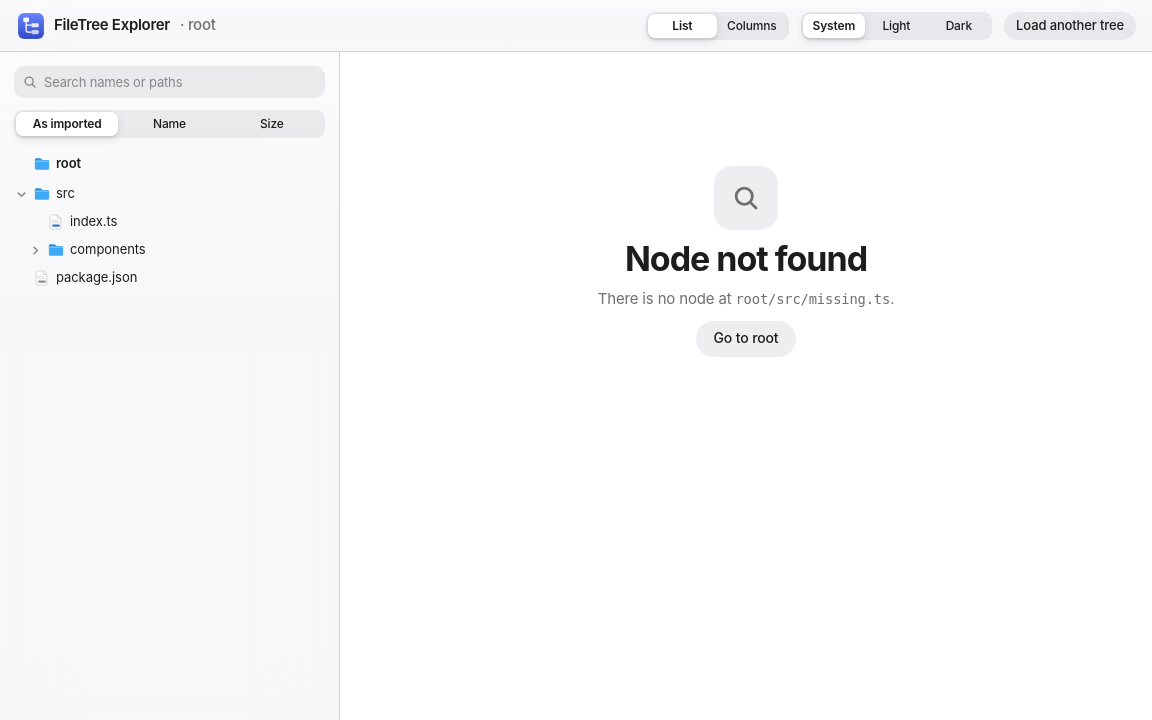
Scenario: node details › reports a path that does not exist in the tree
Check: the heading "Node not found" is shown, box [625, 240, 867, 278]
Check: the text "root/src/missing.ts" is shown, box [736, 292, 890, 308]
Click the link "Go to root" at coordinates (746, 338), box [696, 320, 796, 356]
(page scrolled)
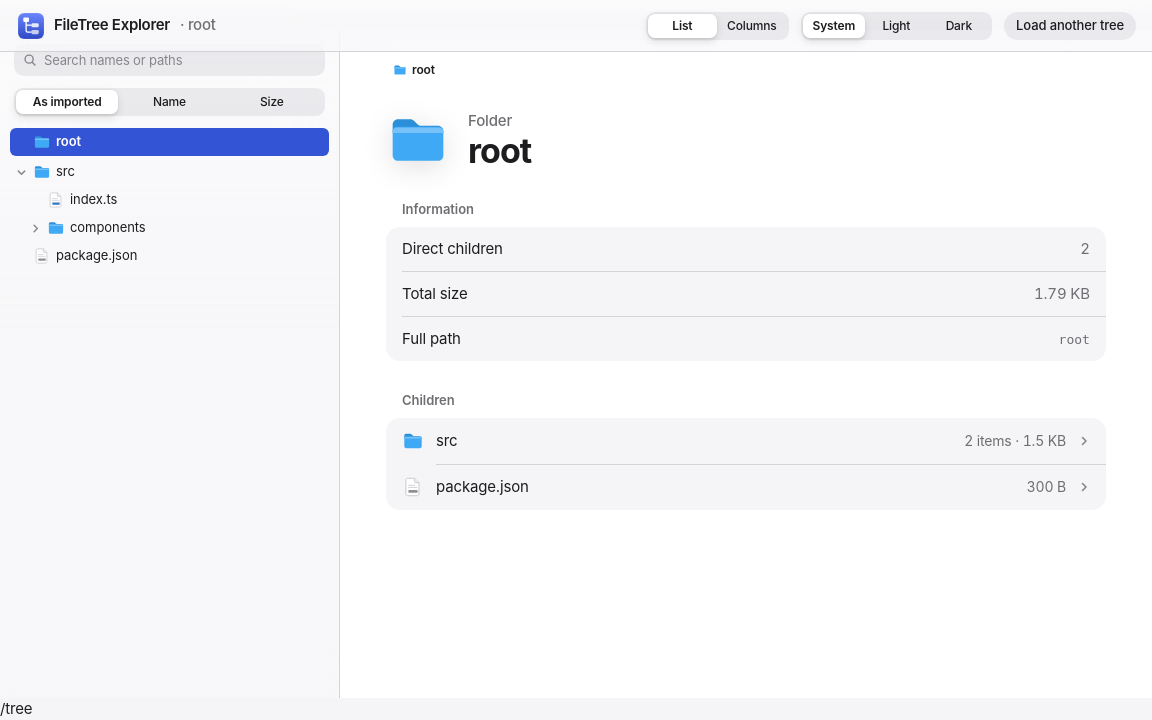
Check: the text with test id "location" reads "/tree", box [0, 699, 32, 718]
